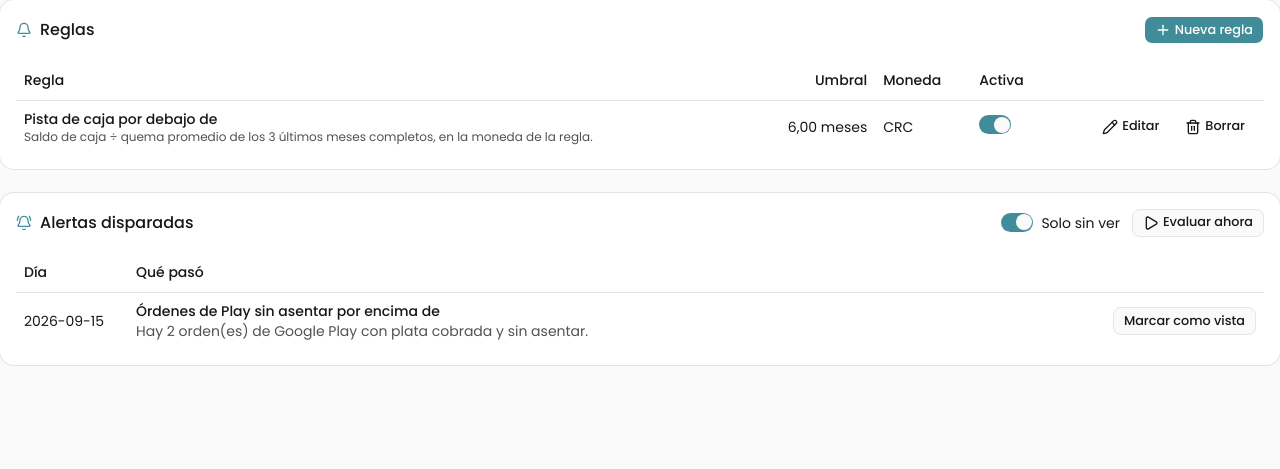
Test: FinanceAlerts — evaluar a mano › resume qué disparó y NOMBRA las reglas que no pudieron decidir
Click the button "Evaluar ahora". click: (1198, 222)
box: [1132,208,1264,236]
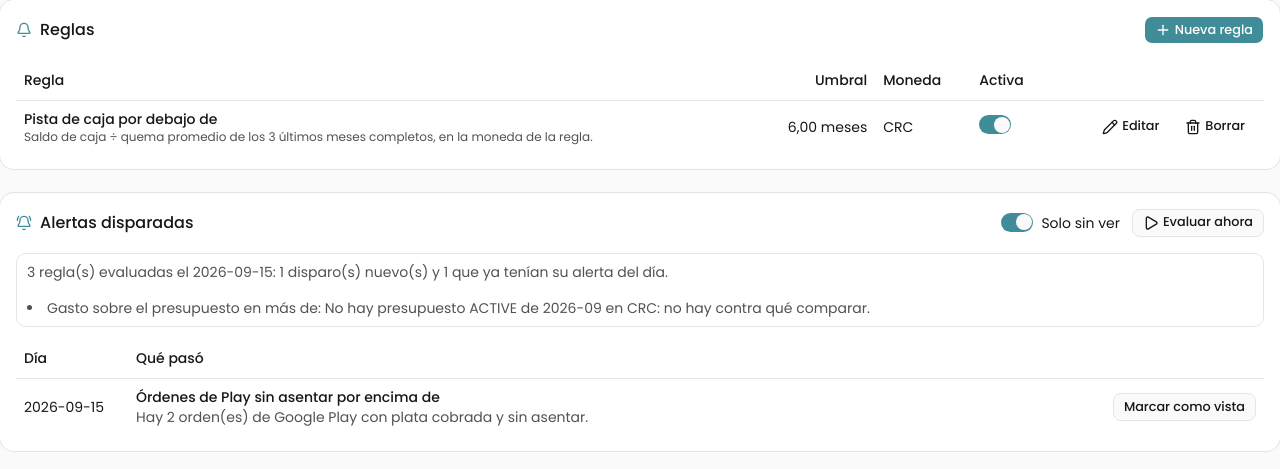
Result: the text "3 regla(s) evaluadas el 2026-09-15" is shown at [27,262,668,282]
Result: the list item "No hay presupuesto ACTIVE de 2026-09" is shown at [325,298,870,318]
